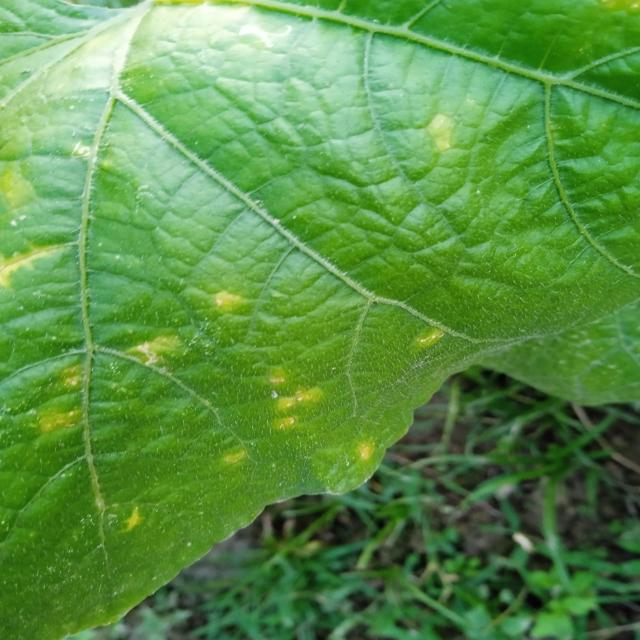cucumber_downy: (0, 13, 595, 606)
